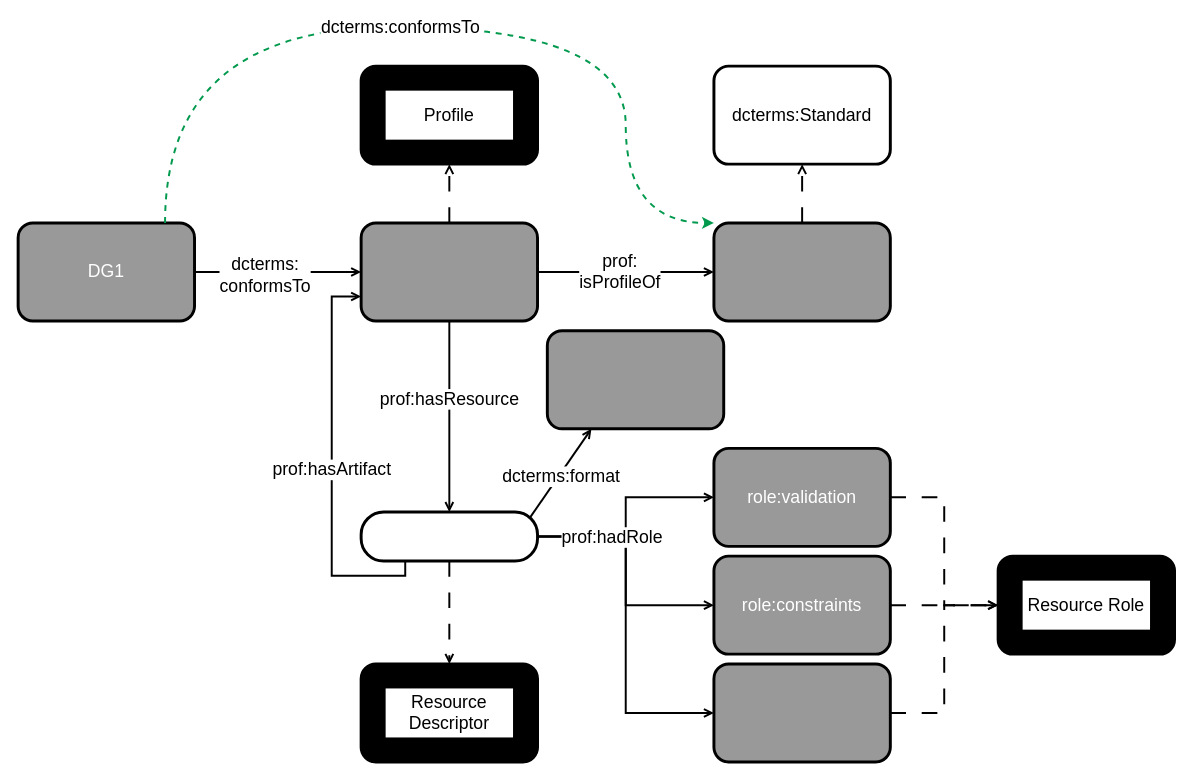
Some shapes in this 1193 by 780 pixel diagram are drawn without their labels. Here are the shapes that lost their labels. From the top down, the box of each, then its label:
(359, 221, 539, 322): SG1
(712, 221, 891, 322): S1
(545, 329, 725, 430): https://iana.org/.../text/turtle
(712, 662, 891, 763): role:specification
